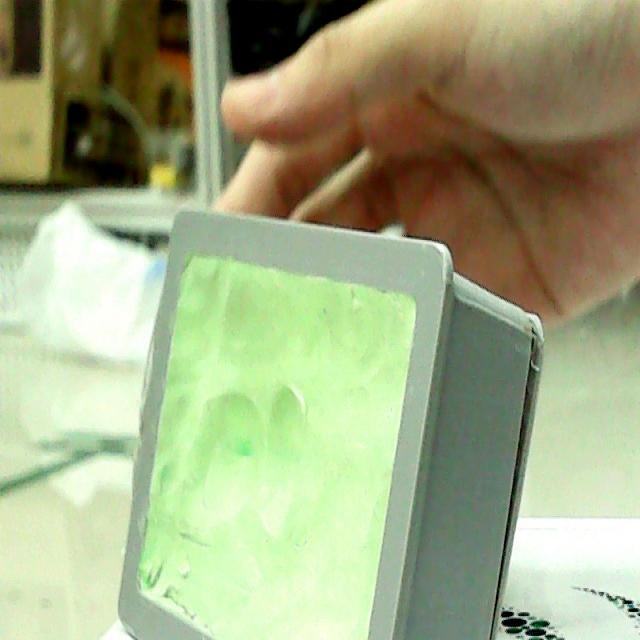block: (107, 184, 551, 640)
